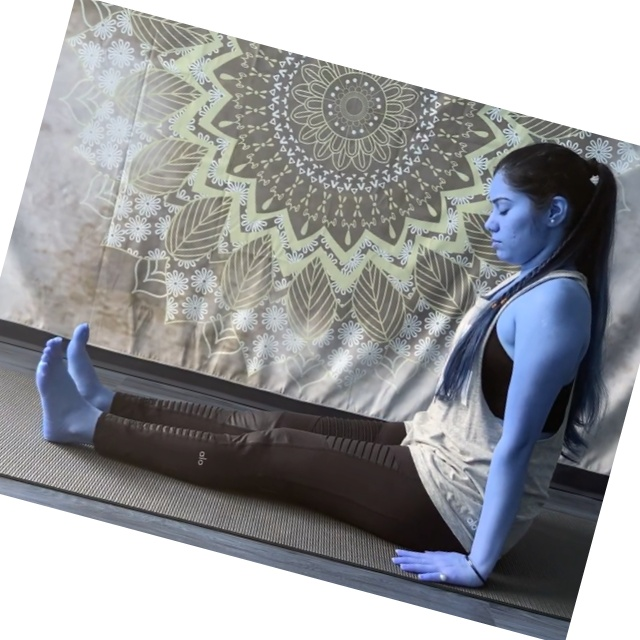Staff_Pose: (29, 138, 599, 584)
